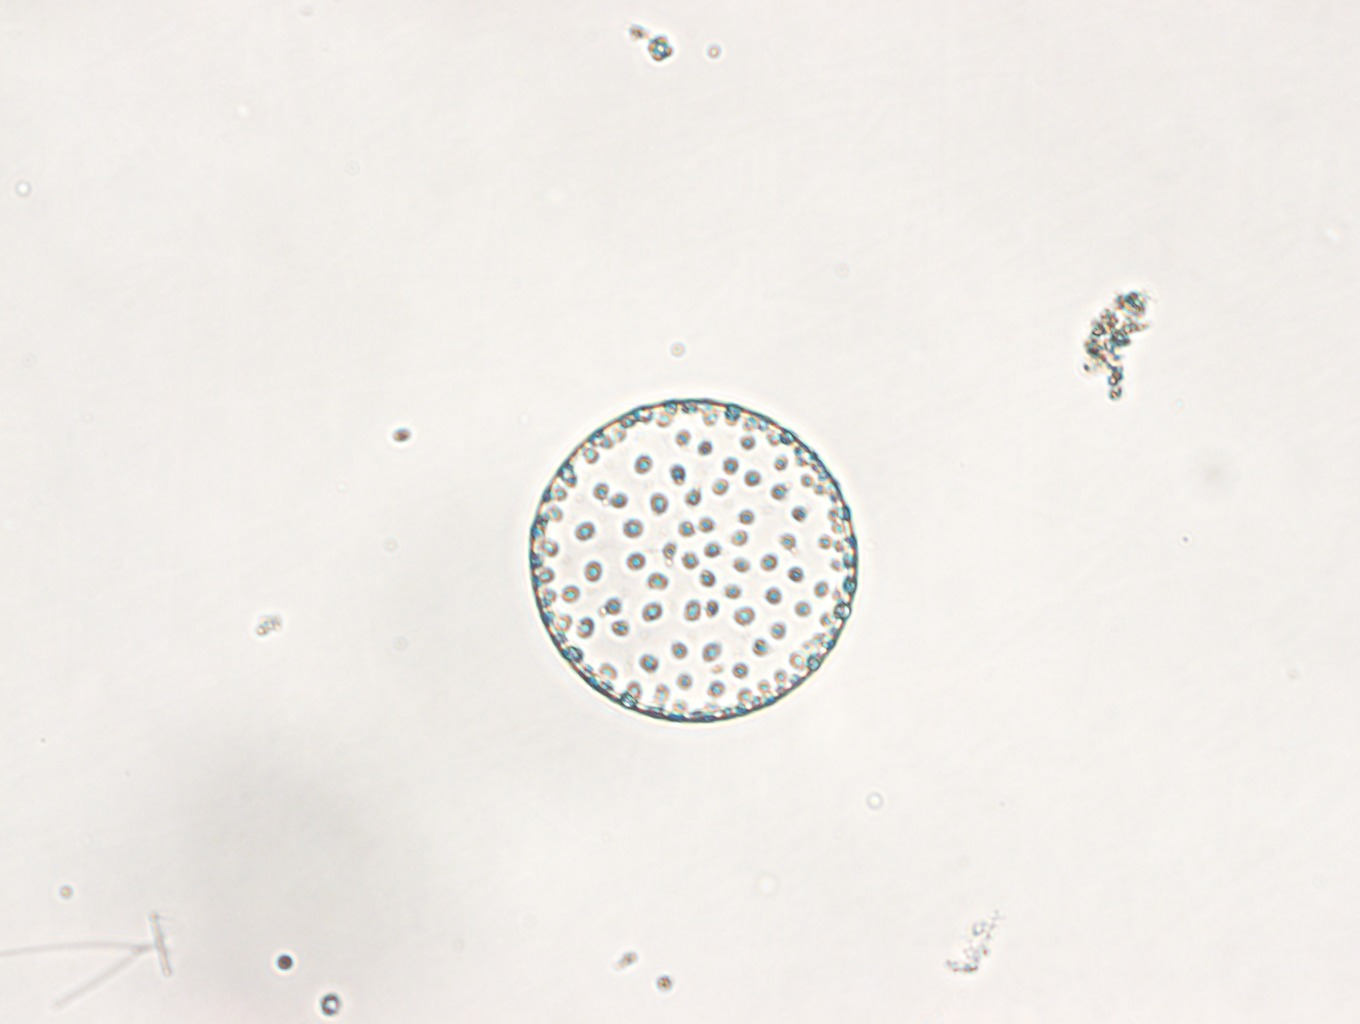coscinodiscus: (525, 392, 864, 726)
